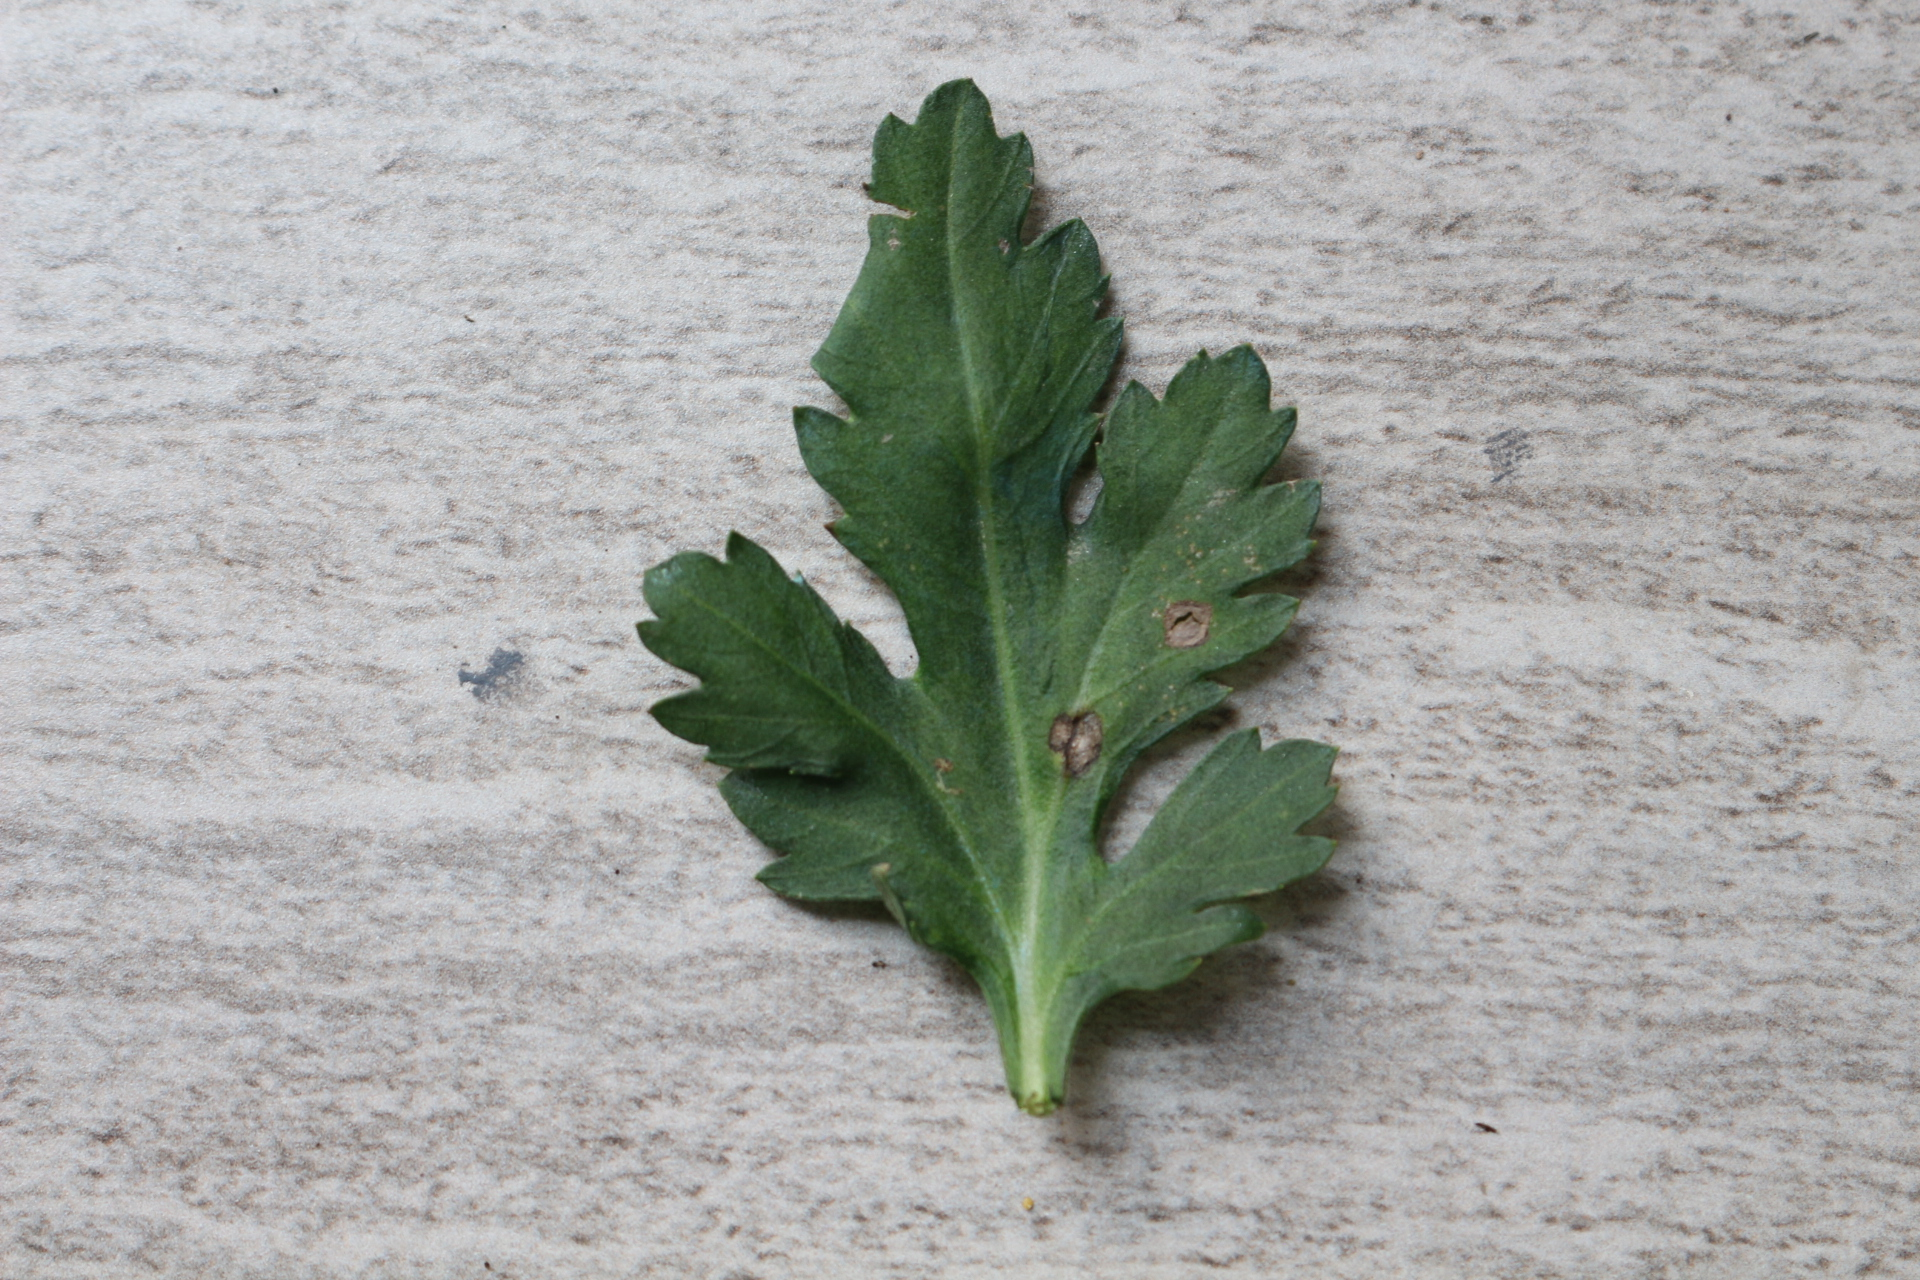namden: (1049, 711, 1106, 783), (1151, 599, 1220, 656)
